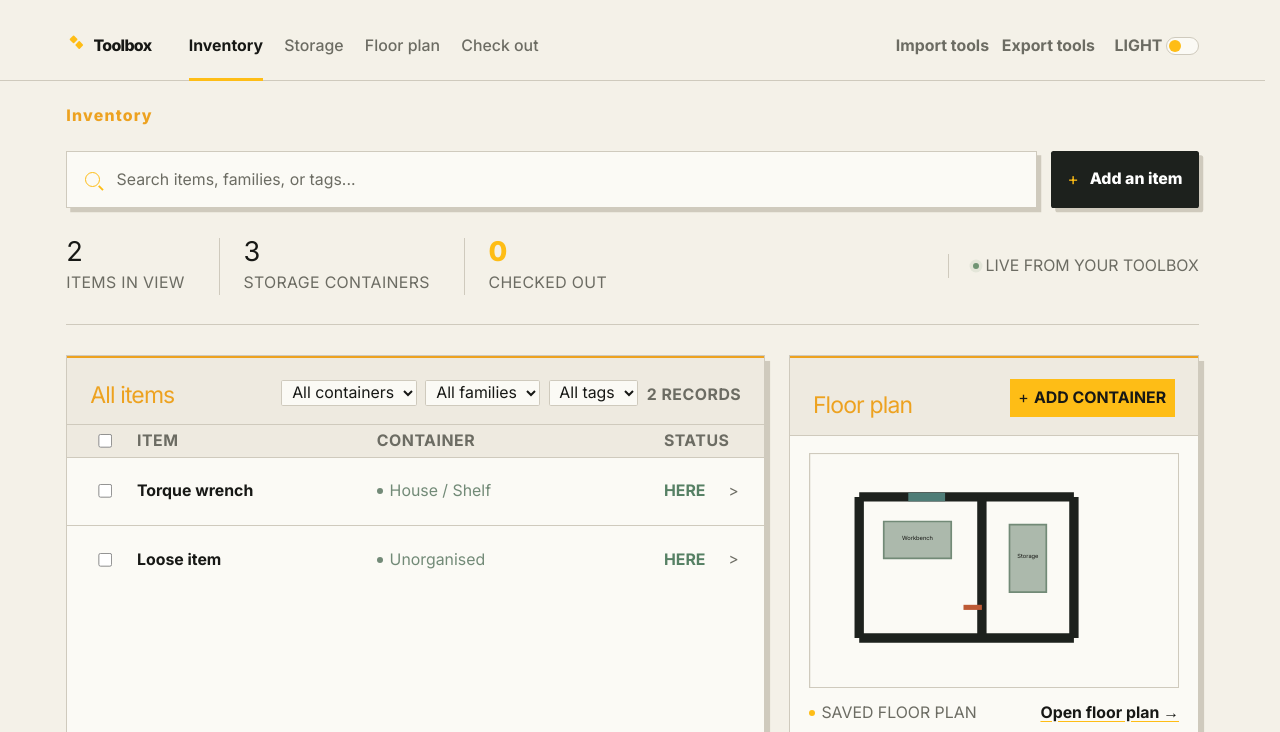
Test: inventory navigation › filters inventory by a container and its descendants
The width and height of the screenshot is (1280, 732).
Check: the text "Loose item" is shown, box [137,550,221,569]
Select "House" in the 1st dropdown named "Filter by container" at (349, 393), box [281,380,417,406]
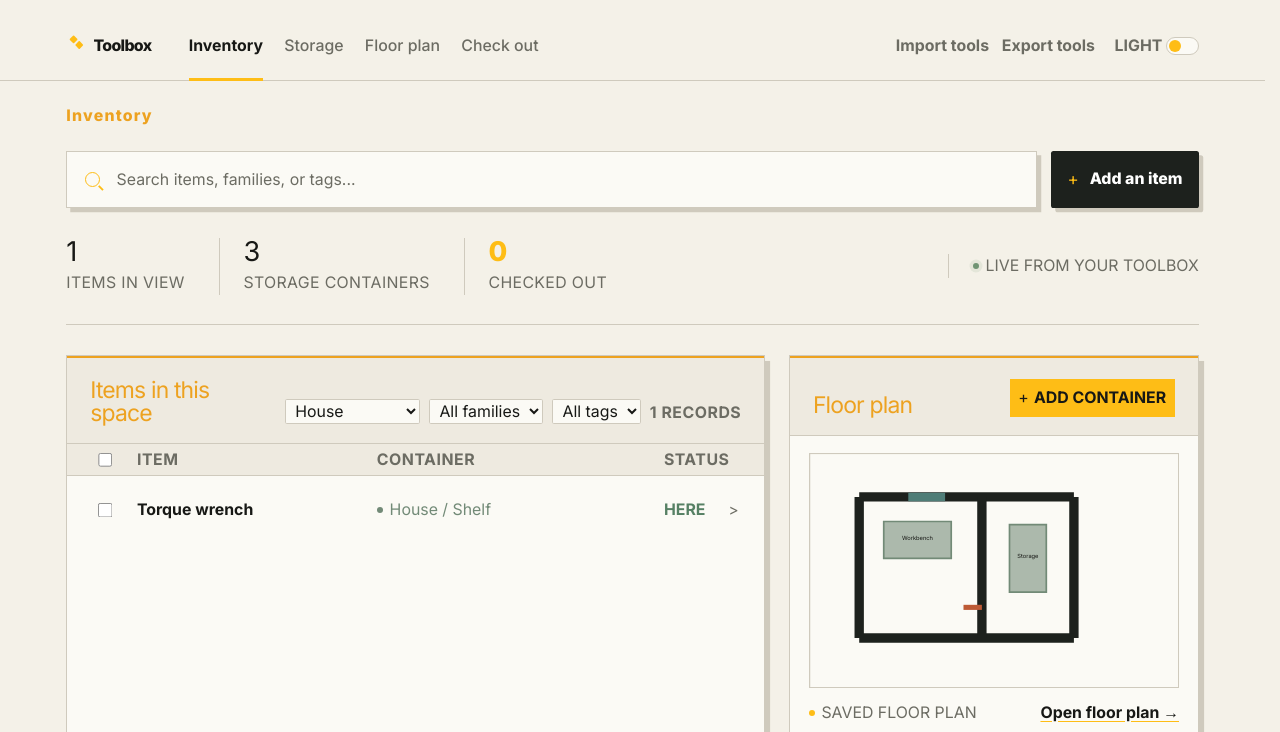
Check: the text "Torque wrench" is shown, box [137,500,253,520]
Check: the button "Loose item" is gone
